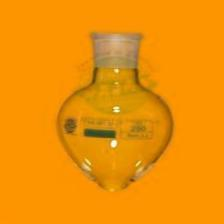Pear shaped flask: (57, 27, 173, 194)
